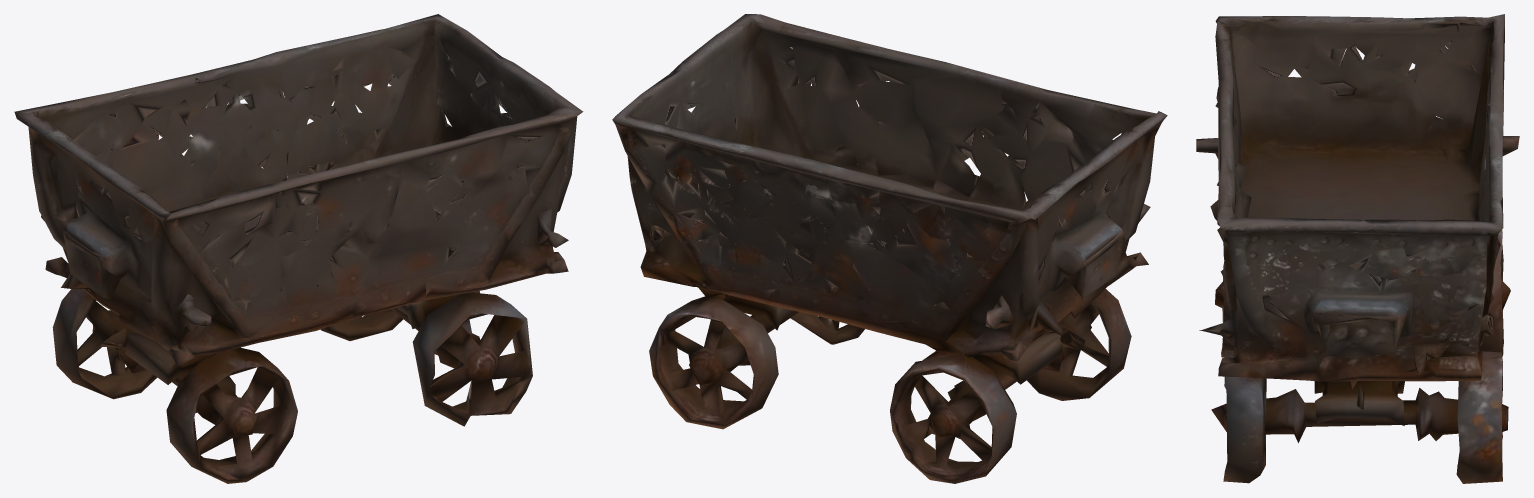
File: ore_cart.ebe569c06d.glb
The picture shows the model from 3 angles, left to right: view 1: azimuth 30°, elevation 25°; view 2: azimuth 150°, elevation 25°; view 3: azimuth 270°, elevation 25°; orthographic projection. The views are drawn at different scales.
Visible parts, largest first — view 1: ore_cart; view 2: ore_cart; view 3: ore_cart.
Boxes of the visible parts, x1,y1,x2,y2 form: ore_cart: (14,14,583,483); ore_cart: (612,14,1167,483); ore_cart: (1196,14,1519,483).
Bounding box in the file's own units: 1.5 × 0.9362 × 0.9171.
1 material, 1 textured.
